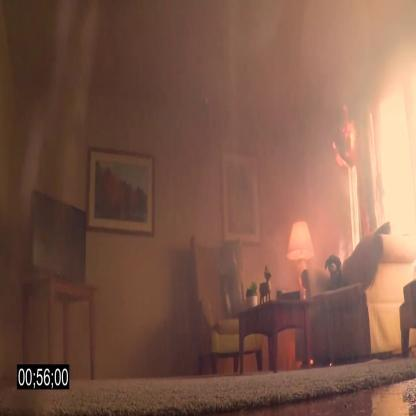fire: (329, 108, 387, 279)
smoke: (278, 215, 324, 282)
